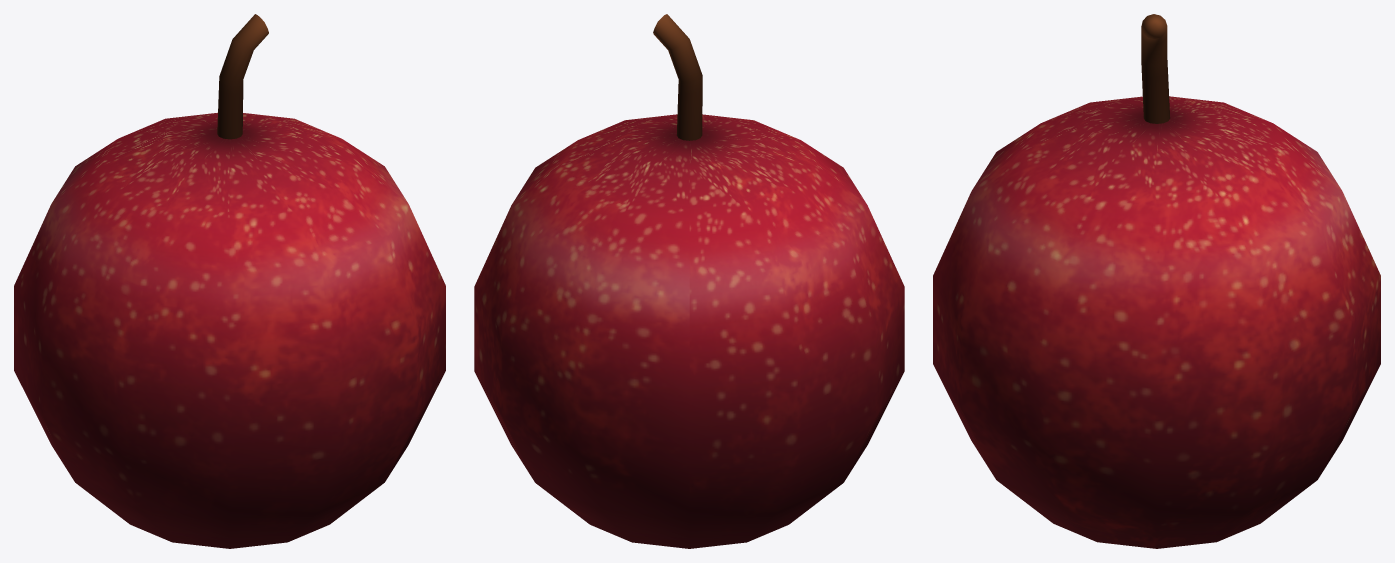
File: PassionFruit_Red.fbx
3 renders of one model, left to right at view 1: azimuth 30°, elevation 25°; view 2: azimuth 150°, elevation 25°; view 3: azimuth 270°, elevation 25°, orthographic. The views are drawn at different scales.
Visible parts, largest first — view 1: PassionFruit_Red; view 2: PassionFruit_Red; view 3: PassionFruit_Red.
Boxes of the visible parts, x1,y1,x2,y2 form: PassionFruit_Red: (14, 14, 445, 548); PassionFruit_Red: (474, 14, 904, 548); PassionFruit_Red: (933, 14, 1380, 548).
Bounding box in the file's own units: 31.03 × 40.43 × 31.03.
Materials: 1 (1 with a texture image).
